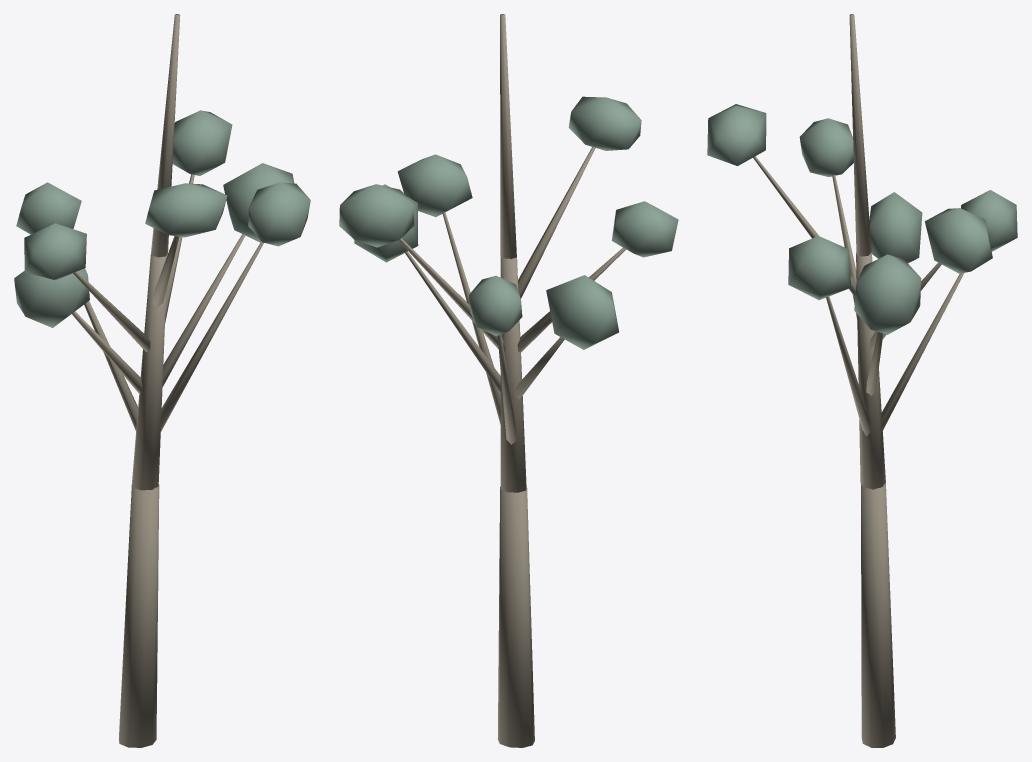
The model's file is eucalyptus_a.glb.
3 views of the same model, side by side, from view 1: azimuth 30°, elevation 25°; view 2: azimuth 150°, elevation 25°; view 3: azimuth 270°, elevation 25° (orthographic). The views are drawn at different scales.
Parts seen in each view (by area): view 1: eucalyptus_a; view 2: eucalyptus_a; view 3: eucalyptus_a.
Part boxes in pixels (x1,y1,x2,y2): eucalyptus_a: (14, 14, 310, 747); eucalyptus_a: (339, 14, 678, 747); eucalyptus_a: (707, 14, 1017, 747).
Size of the model in its own units: 7.2 by 16.8 by 6.4.
